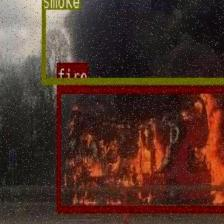smoke: (41, 0, 224, 82)
